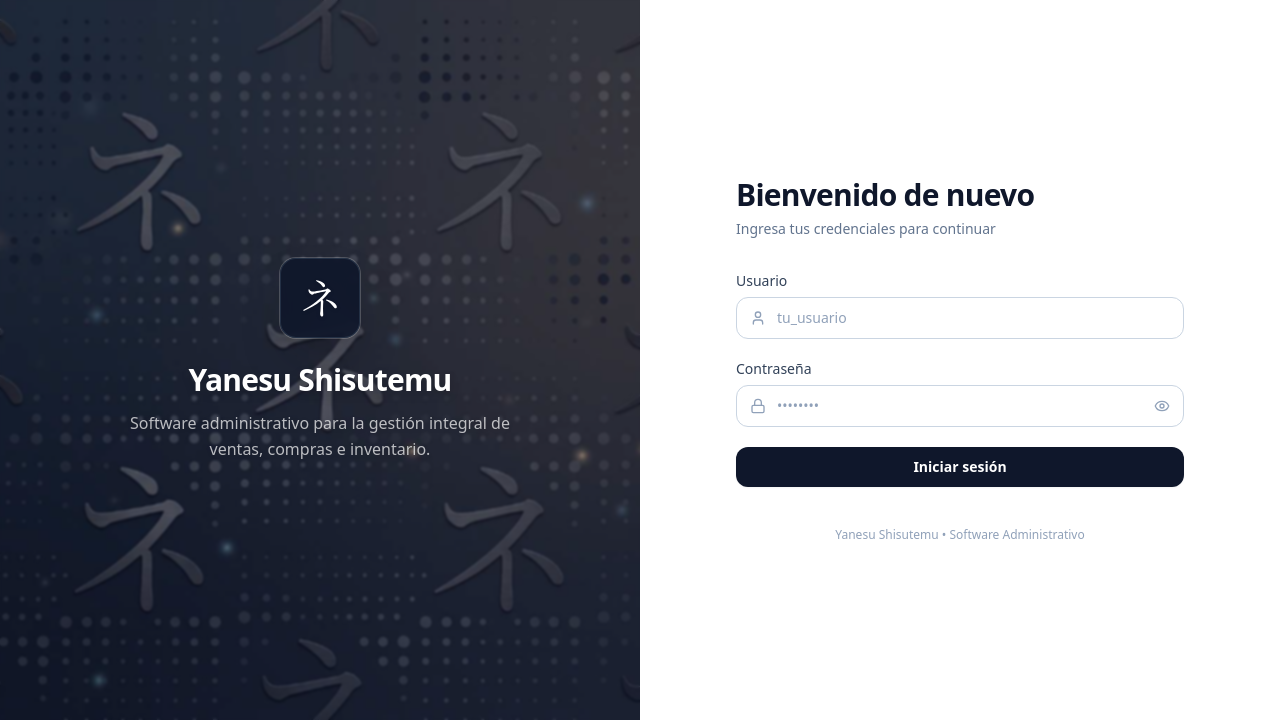
Test: LoginPage › shows error when submitting empty form
Click the button "Iniciar sesión" at (960, 467), box [736,447,1184,487]
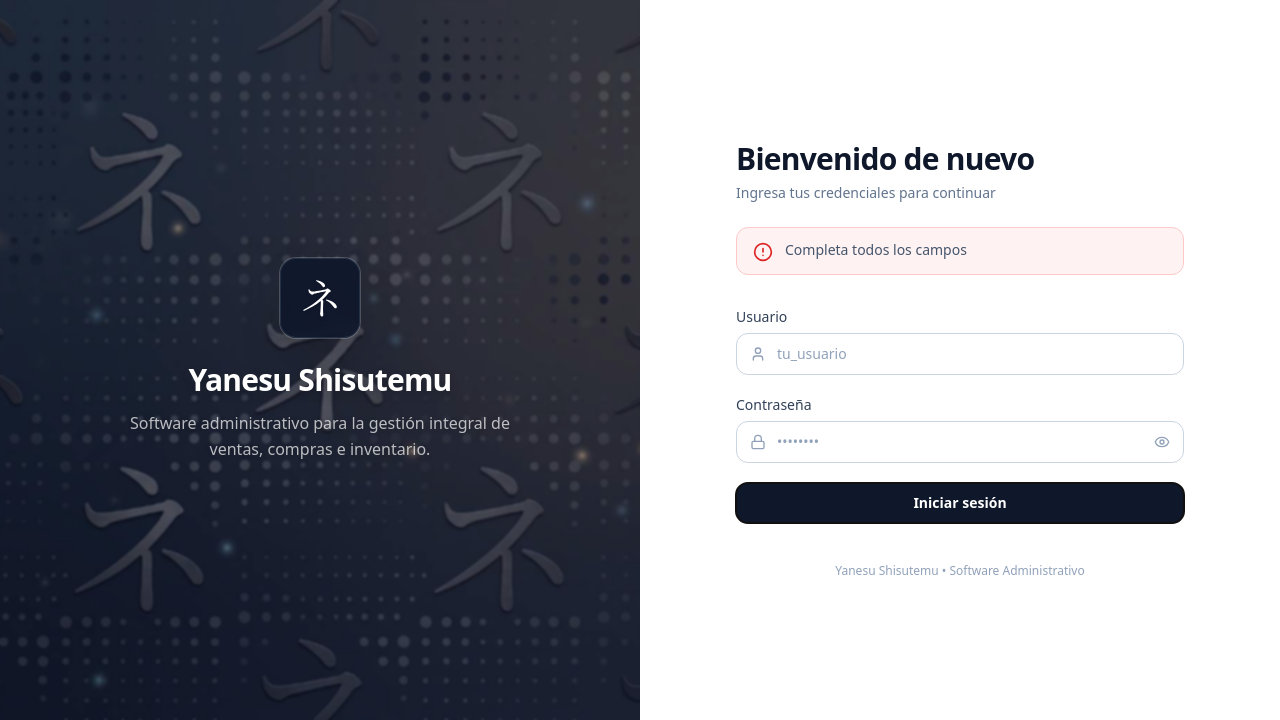
Result: the text "Completa todos los campos" is shown at [785,240,967,259]
